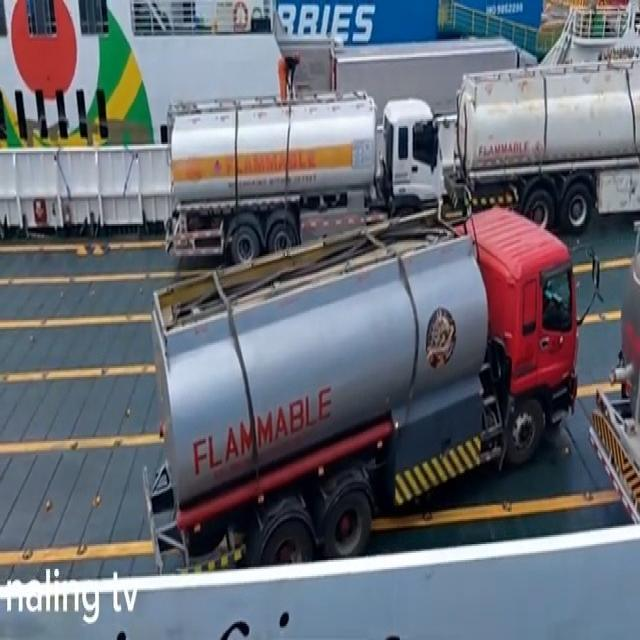truck: (141, 203, 584, 582), (164, 92, 446, 272), (452, 55, 640, 234)
